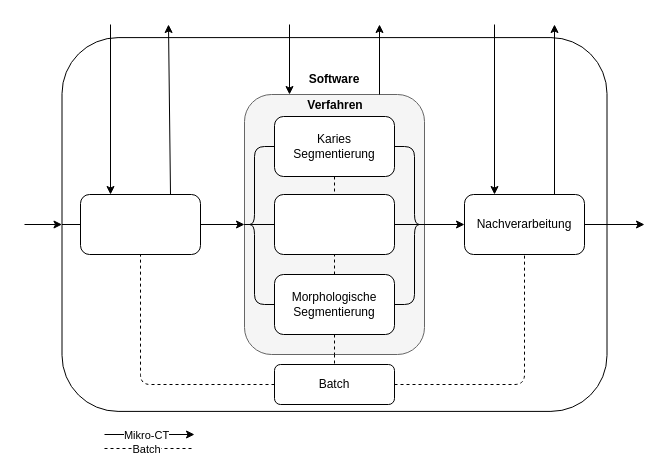
Some shapes in this 670 by 473 pixel diagram are drawn without their labels. Each missing label, with the centre of its shape:
Anatomische Segmentierung: point 334,224
Vorverarbeitung: point 140,224
